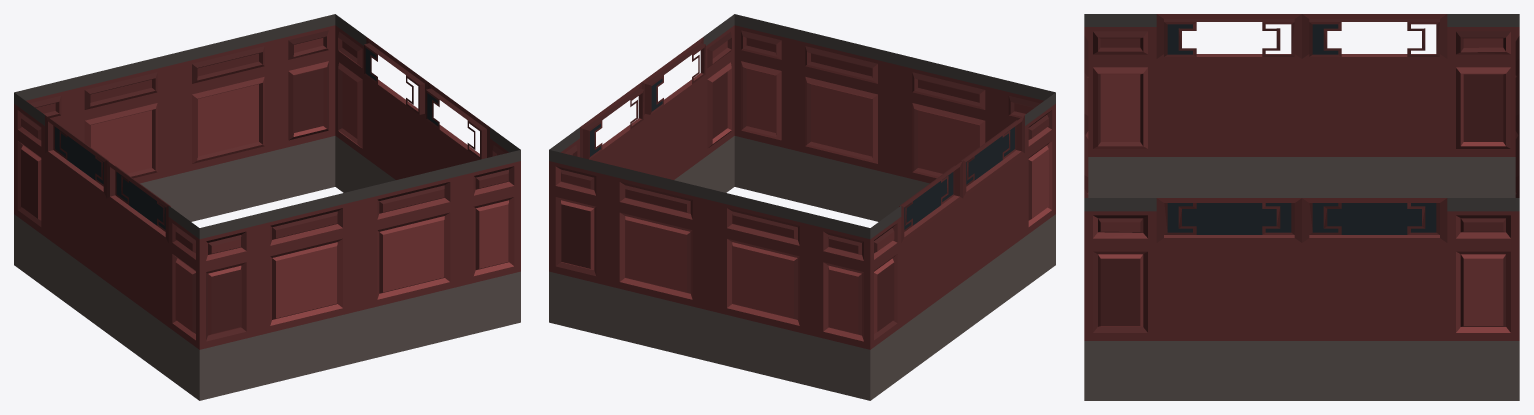
The model's file is StackA-Sm_C.fbx.
3 views of the same model, side by side, from view 1: azimuth 30°, elevation 25°; view 2: azimuth 150°, elevation 25°; view 3: azimuth 270°, elevation 25° (orthographic). The views are drawn at different scales.
Visible parts, largest first — view 1: StackA-Sm_C; view 2: StackA-Sm_C; view 3: StackA-Sm_C.
Part boxes in pixels (x1,y1,x2,y2): StackA-Sm_C: (14,14,520,400); StackA-Sm_C: (549,14,1055,400); StackA-Sm_C: (1084,14,1519,400).
Bounding box in the file's own units: 750 × 386 × 750.
